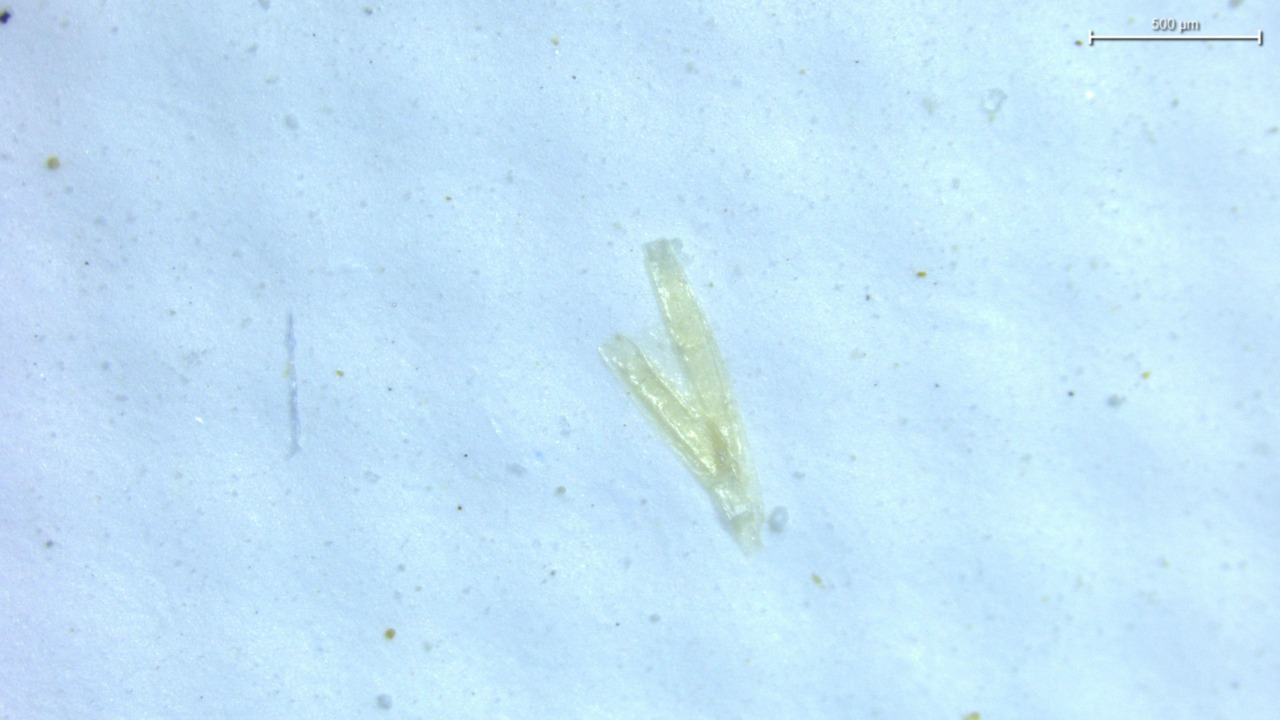microplastic_fragment: (599, 239, 764, 553)
